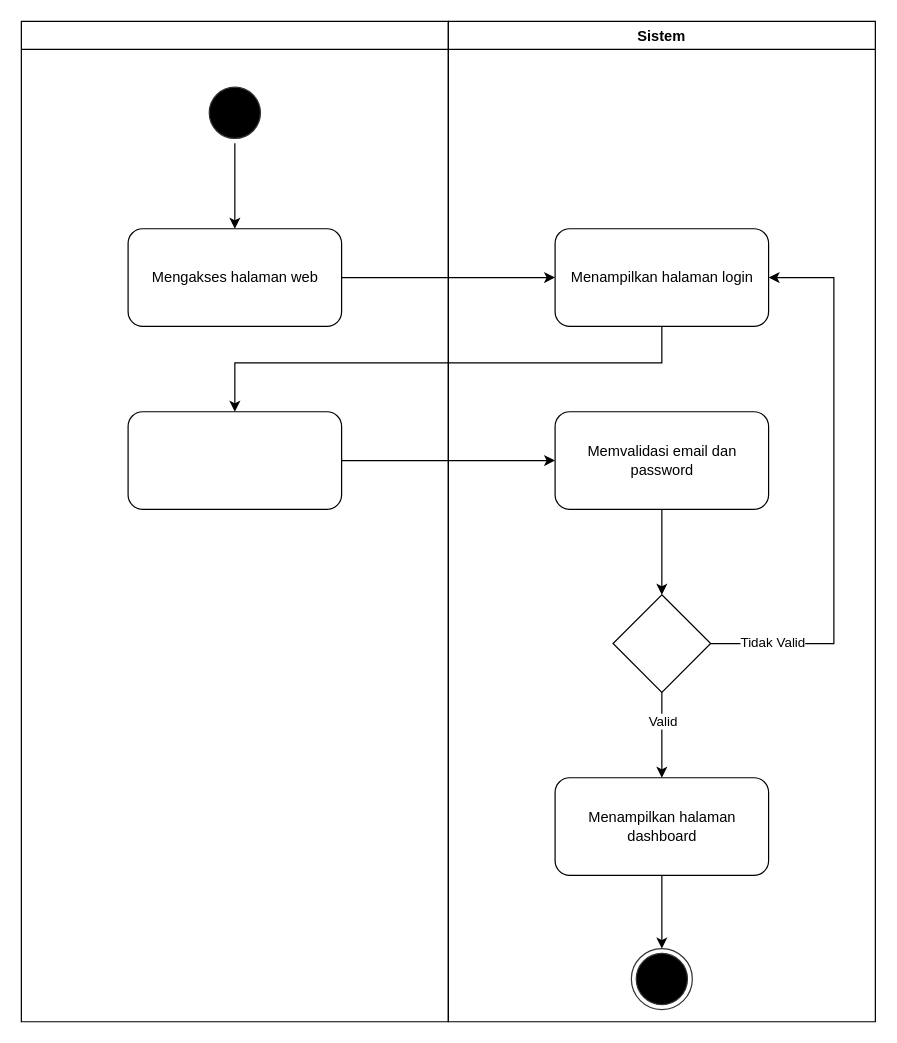
Some shapes in this 897 by 1043 pixel diagram are drawn without their labels. Here are the shapes that lost their labels. From the top down, the box of each, then its label:
(127, 411, 342, 509): Menginputkan email dan password lalu klik tombol login
(20, 20, 448, 1022): User
